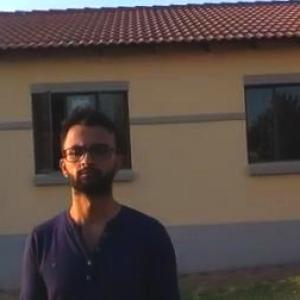follow: (13, 88, 194, 299)
